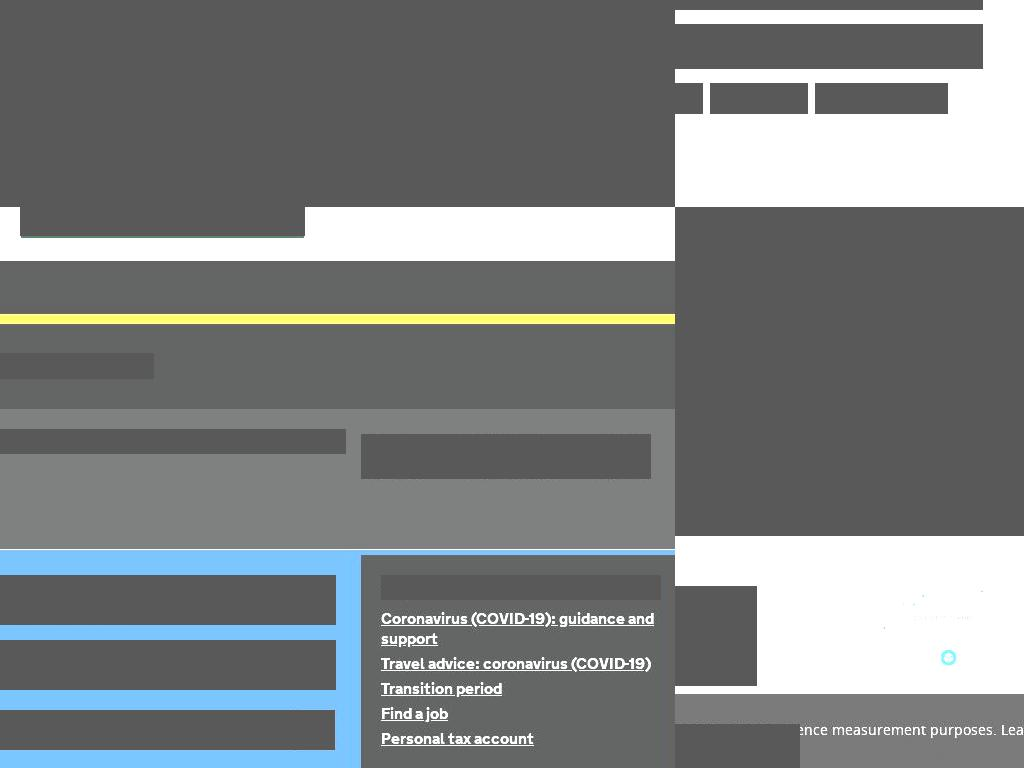button: (675, 24, 983, 69), (20, 207, 305, 236), (815, 83, 948, 114), (0, 354, 154, 379), (710, 83, 808, 114), (295, 710, 335, 750), (675, 83, 703, 114)
field: (0, 710, 295, 750)
heading: (0, 575, 336, 625), (0, 13, 128, 103), (830, 724, 1024, 768), (381, 575, 661, 600), (675, 724, 800, 768)
iframe: (675, 207, 1024, 536)
image: (872, 586, 1024, 686), (361, 434, 651, 479), (675, 586, 757, 686)
link: (381, 609, 655, 650), (381, 654, 652, 675), (381, 729, 535, 750), (381, 679, 503, 700), (381, 704, 449, 725)
text: (0, 0, 675, 207), (675, 720, 1024, 758), (0, 429, 346, 454), (0, 640, 336, 665), (0, 665, 336, 690), (0, 118, 128, 178), (0, 353, 154, 379), (707, 34, 862, 59), (845, 89, 935, 108), (741, 89, 795, 108), (675, 89, 690, 108)
